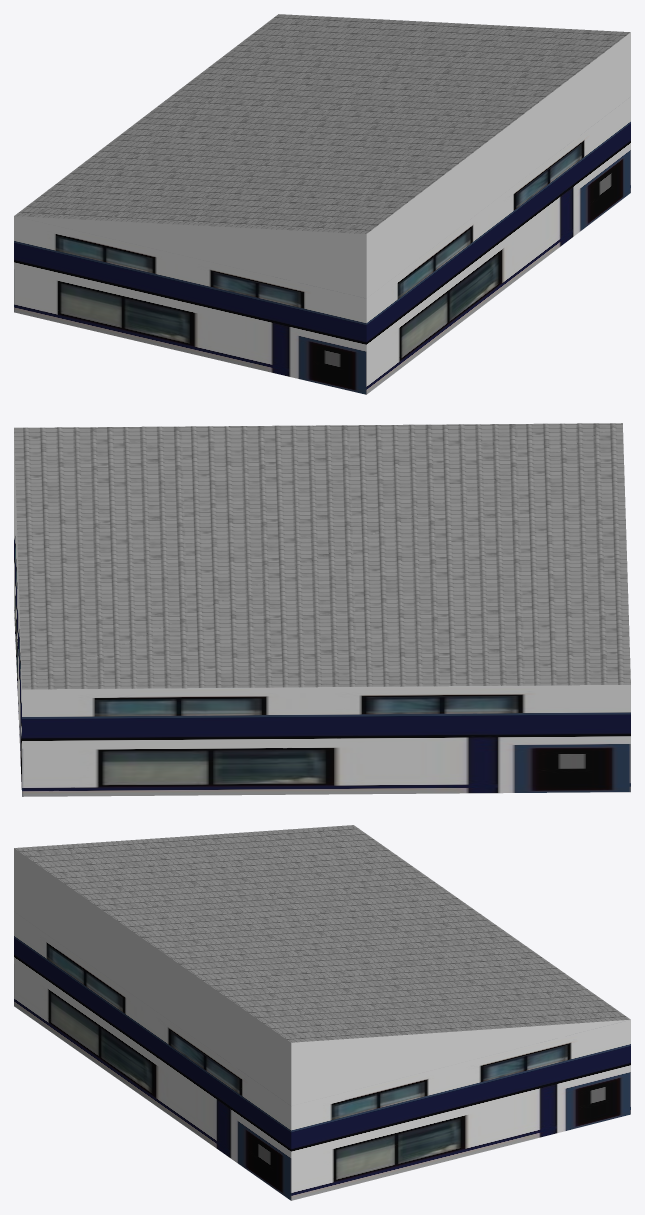
3 renders of one model, top to bottom at view 1: azimuth 30°, elevation 25°; view 2: azimuth 150°, elevation 25°; view 3: azimuth 270°, elevation 25°, orthographic. The views are drawn at different scales.
Parts seen in each view (by area): view 1: CityEngineMaterial_4_m, CityEngineMaterial_2_m, CityEngineMaterial_3_m; view 2: CityEngineMaterial_4_m, CityEngineMaterial_2_m; view 3: CityEngineMaterial_4_m, CityEngineMaterial_2_m, CityEngineMaterial_3_m.
Boxes of the visible parts, x1,y1,x2,y2 form: CityEngineMaterial_4_m: [14, 14, 630, 233]; CityEngineMaterial_2_m: [14, 97, 630, 394]; CityEngineMaterial_3_m: [14, 32, 630, 298]; CityEngineMaterial_4_m: [14, 423, 630, 689]; CityEngineMaterial_2_m: [14, 503, 630, 796]; CityEngineMaterial_4_m: [14, 825, 630, 1042]; CityEngineMaterial_2_m: [14, 911, 630, 1200]; CityEngineMaterial_3_m: [14, 848, 630, 1105].
Size of the model in its own units: 44.92 by 11.79 by 41.67.
